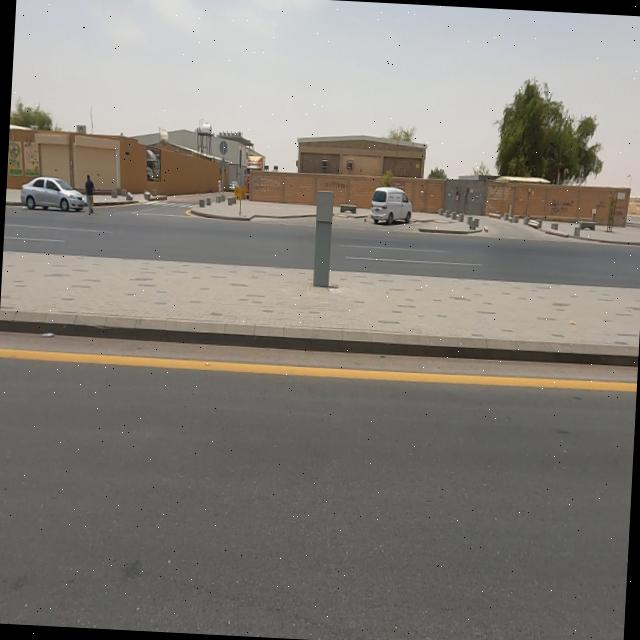Graffiti: (550, 198, 576, 218), (323, 181, 348, 191)
